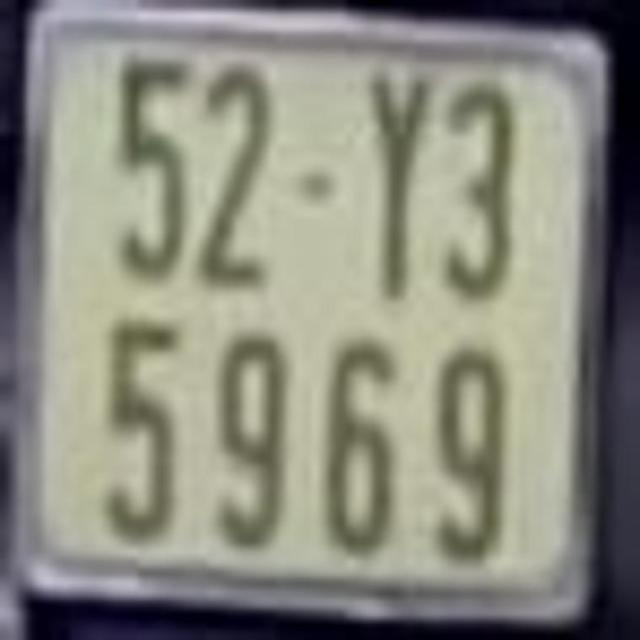2: (200, 63, 270, 288)
3: (444, 81, 513, 301)
5: (107, 318, 179, 540), (118, 55, 188, 278)
6: (330, 338, 395, 554)
9: (437, 348, 503, 561), (218, 332, 282, 548)
Y: (367, 66, 428, 301)
